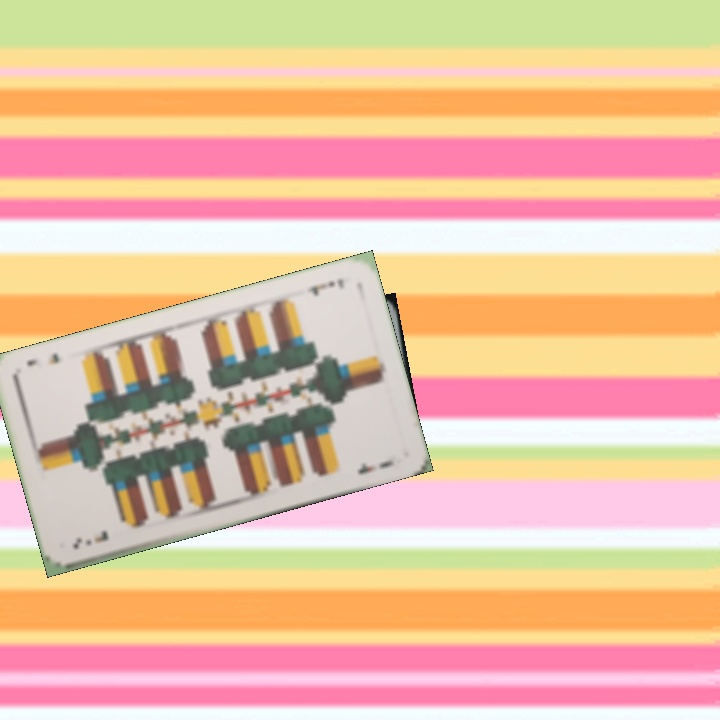E7: (69, 526, 112, 553), (303, 275, 347, 299)
